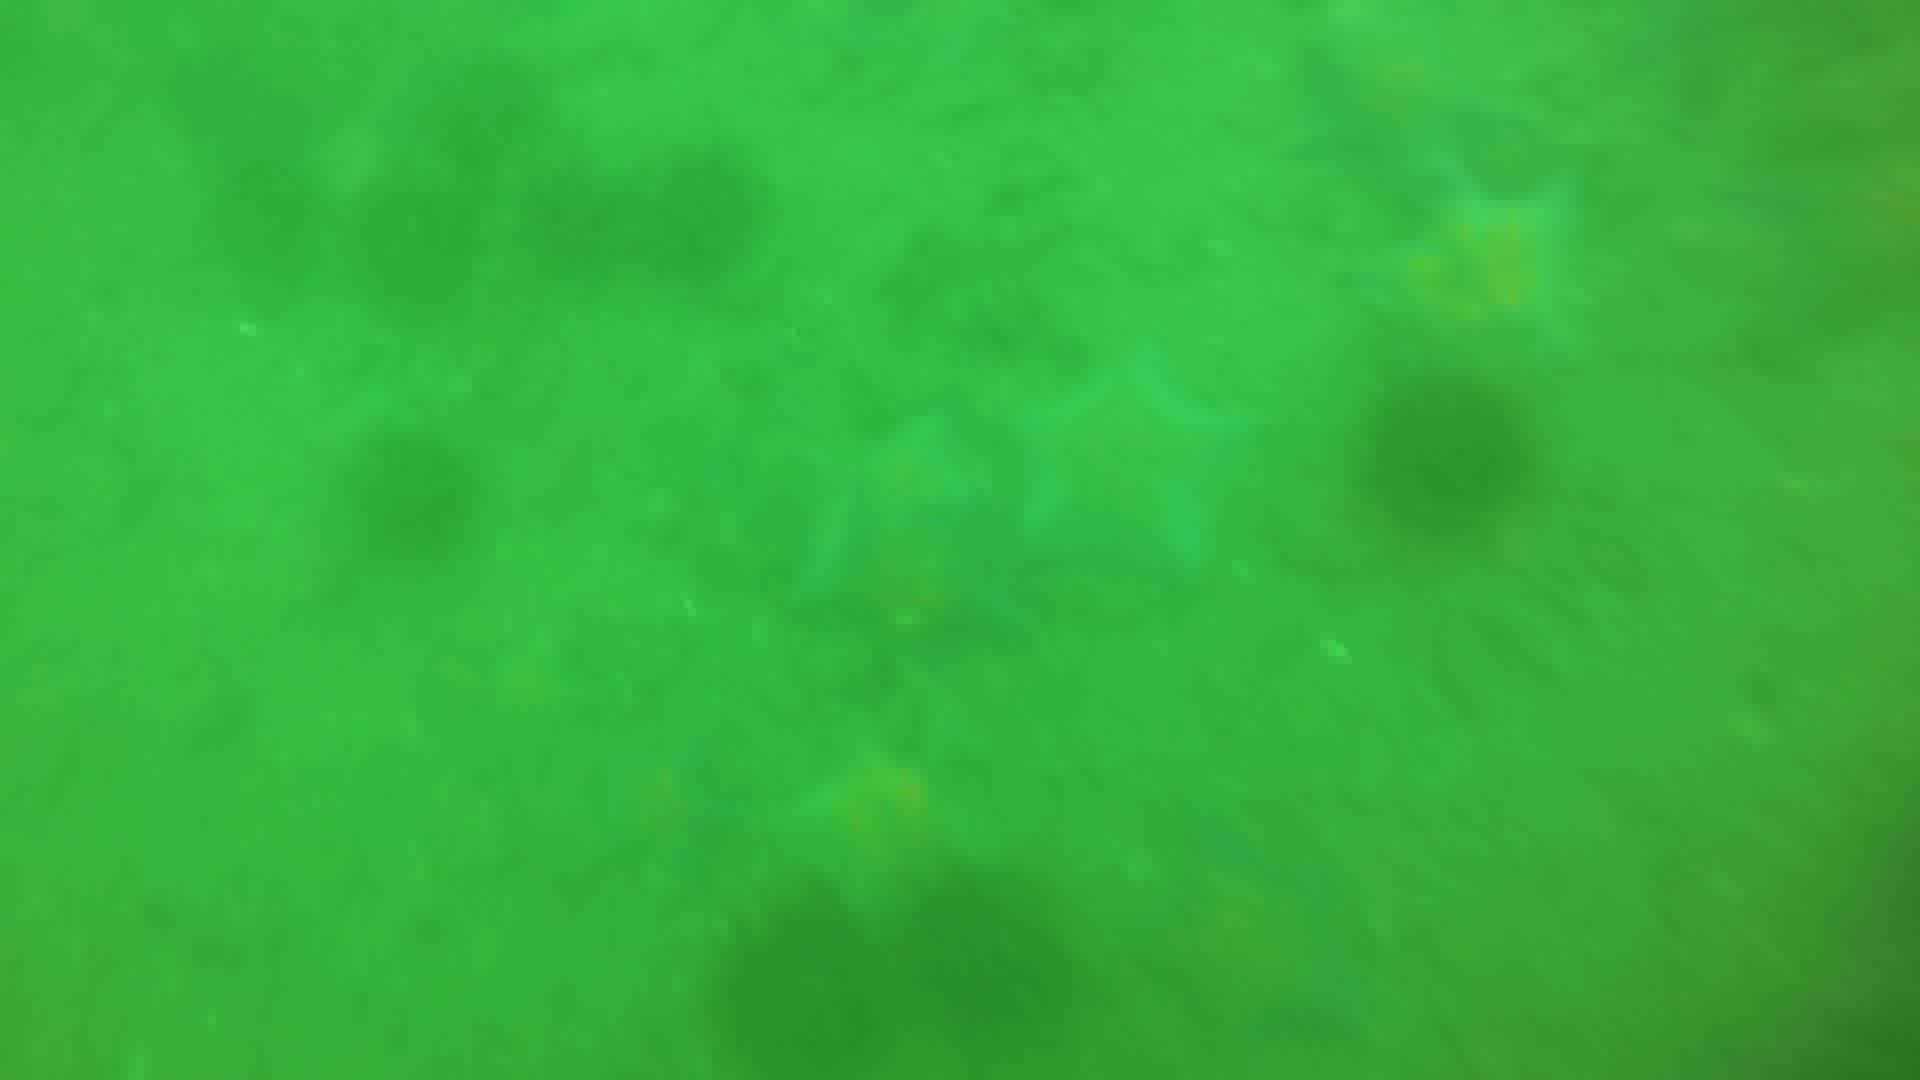echinus: (1349, 164, 1600, 386), (711, 901, 901, 1076), (901, 866, 1077, 1036), (1356, 373, 1534, 535), (340, 425, 484, 564), (351, 178, 481, 310), (640, 149, 767, 284), (498, 161, 626, 295), (411, 51, 550, 169), (204, 153, 322, 280)
starfish: (986, 343, 1267, 591), (1350, 164, 1600, 388), (1130, 832, 1375, 1058), (766, 410, 1011, 624), (769, 724, 1002, 924), (1280, 26, 1515, 206), (578, 731, 742, 889), (436, 629, 600, 777)
